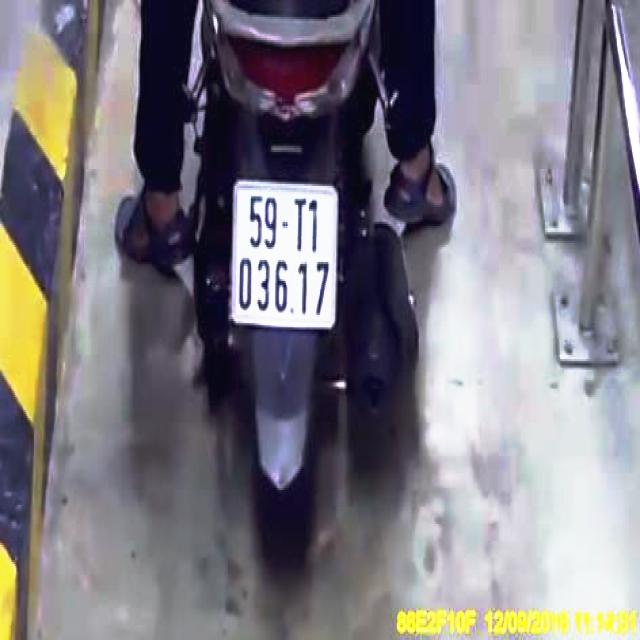license_plate: (230, 184, 337, 325)
